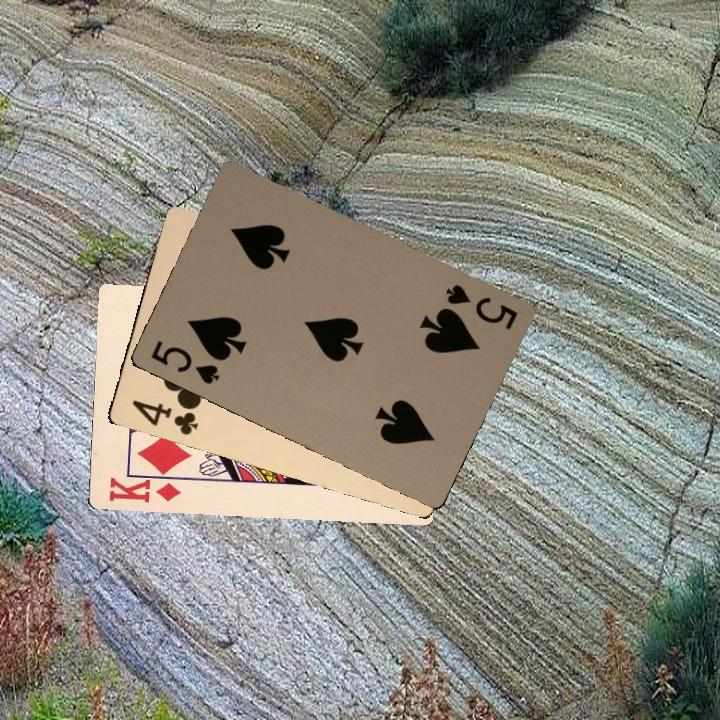4c: (128, 395, 200, 438)
5s: (442, 279, 520, 333), (146, 336, 222, 387)
Kd: (104, 467, 182, 506)
